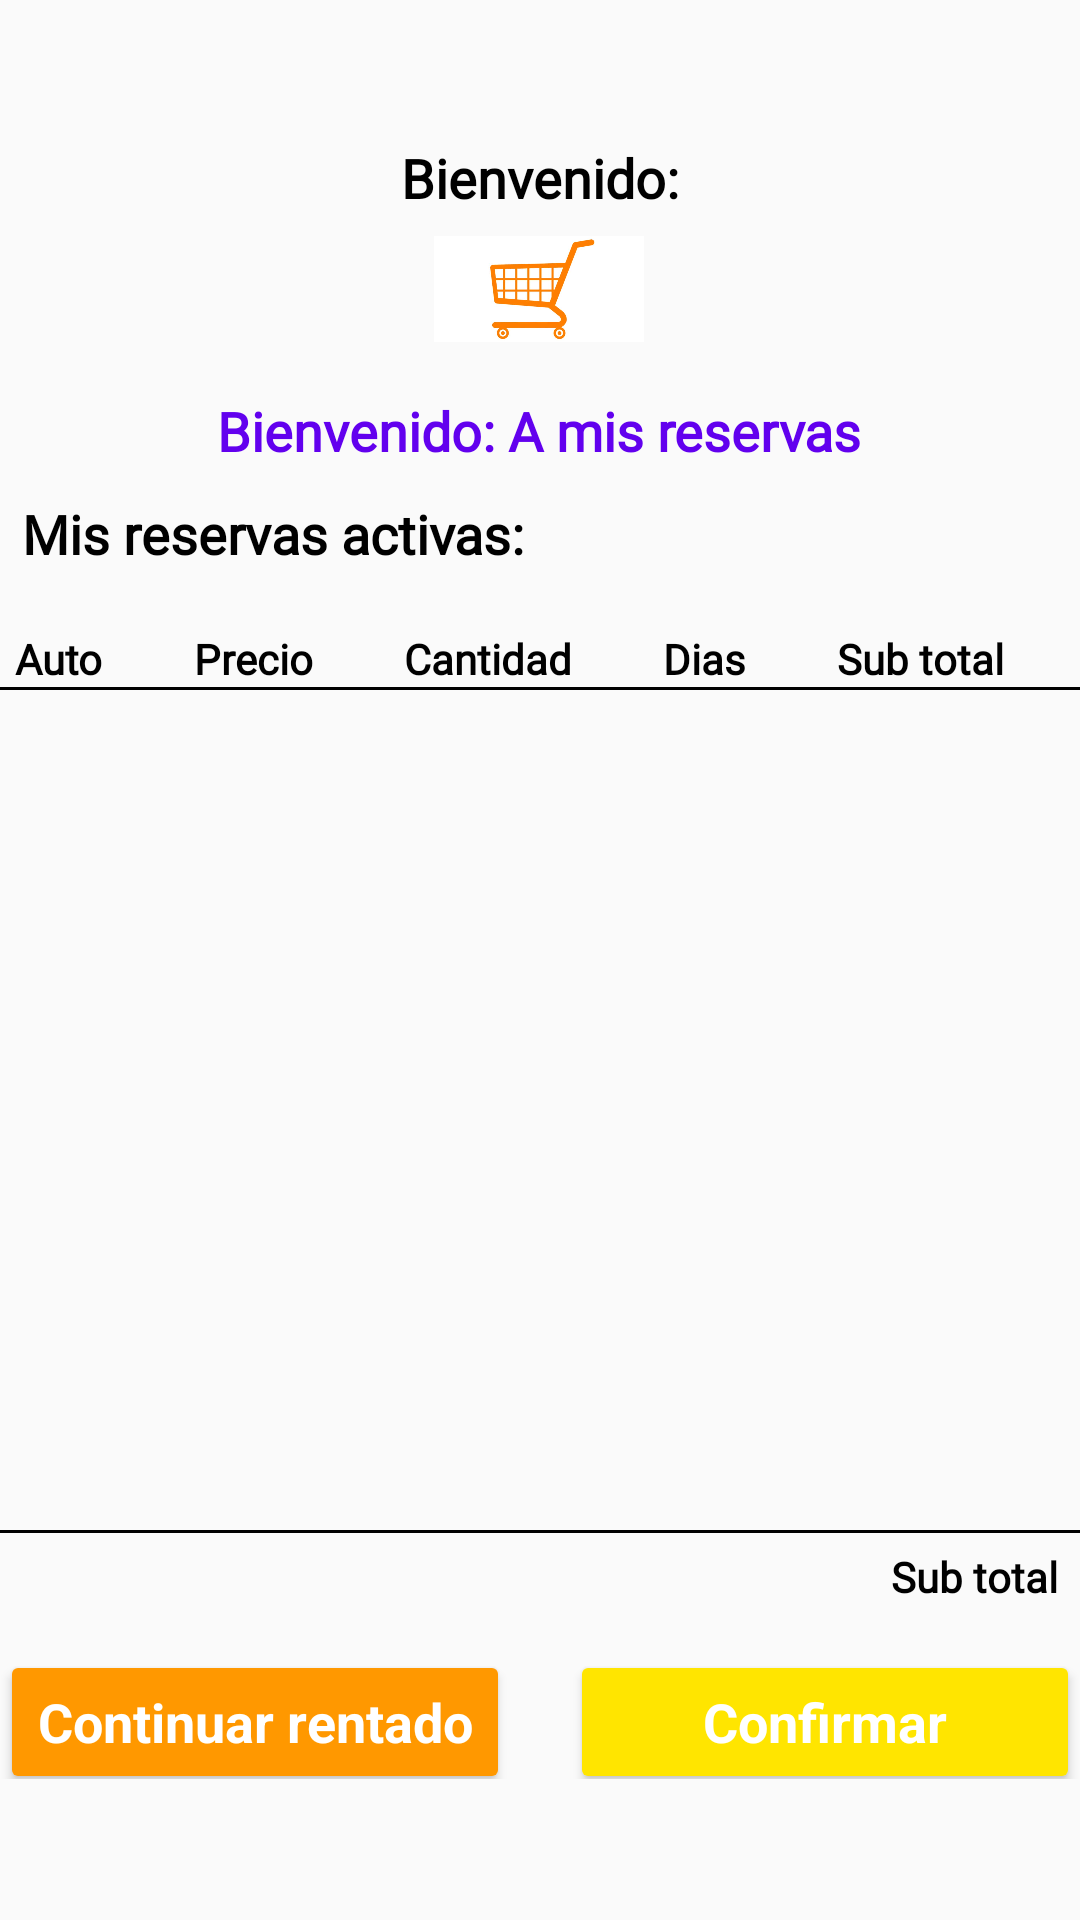

Screen size 1080 x 1920. Icon name, then its box in pixels as (x1, y1, x2, y2):
store: (490, 239, 595, 339)
